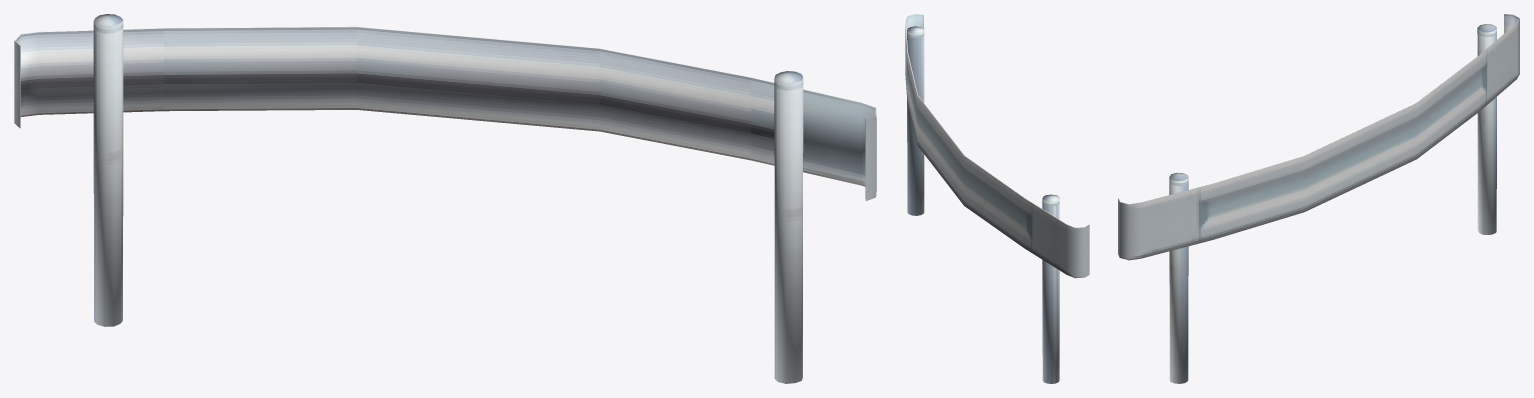
The model's file is RoadProp_GuardRail_01c.fbx.
3 views of the same model, side by side, from view 1: azimuth 30°, elevation 25°; view 2: azimuth 150°, elevation 25°; view 3: azimuth 270°, elevation 25° (orthographic). The views are drawn at different scales.
Visible parts, largest first — view 1: RoadProp_GuardRail_01c; view 2: RoadProp_GuardRail_01c; view 3: RoadProp_GuardRail_01c.
Part boxes in pixels (x1,y1,x2,y2): RoadProp_GuardRail_01c: (14,14,876,383); RoadProp_GuardRail_01c: (905,14,1089,383); RoadProp_GuardRail_01c: (1118,14,1519,383).
Bounding box in the file's own units: 2.37 × 1.19 × 2.11.
